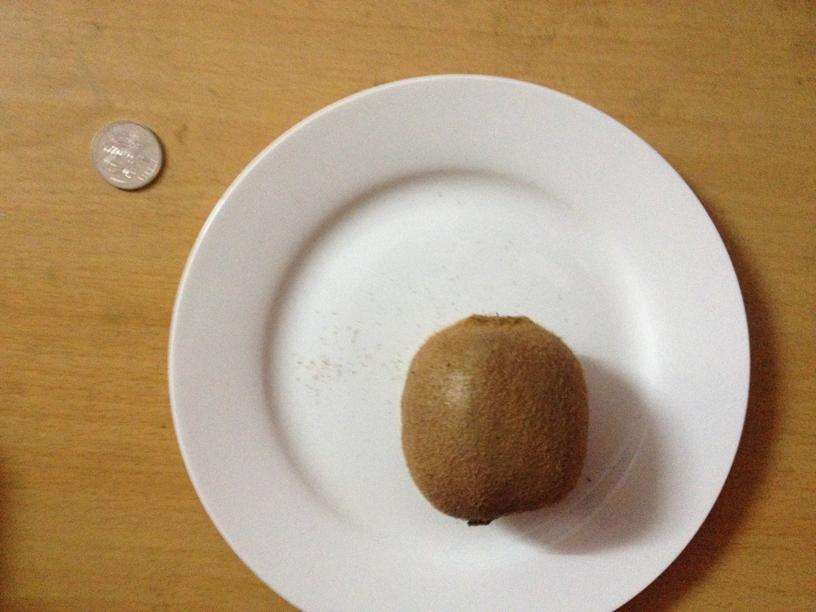coin: (91, 120, 161, 190)
qiwi: (403, 310, 590, 524)
